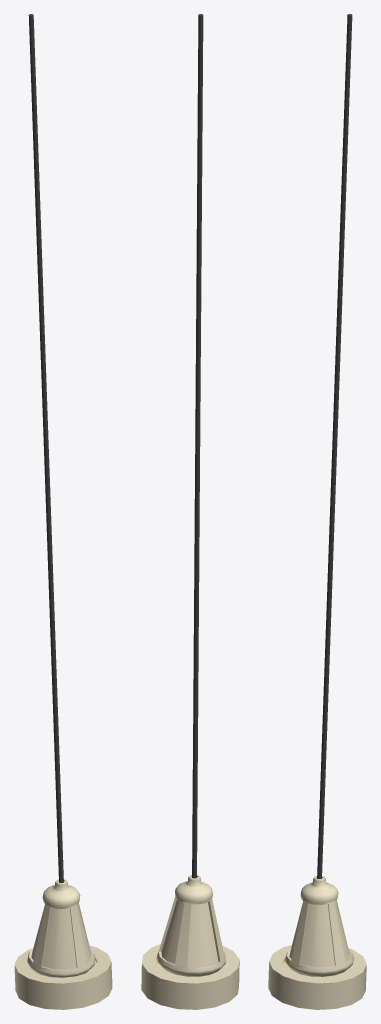
Rendered from AntennaCOEL.fbx.
3 renders of one model, left to right at view 1: azimuth 90°, elevation 25°; view 2: azimuth 210°, elevation 25°; view 3: azimuth 270°, elevation 25°, orthographic.
Visible parts, largest first — view 1: polySurface47.002; view 2: polySurface47.002; view 3: polySurface47.002.
Boxes of the visible parts, x1,y1,x2,y2 form: polySurface47.002: (14,14,112,1009); polySurface47.002: (141,14,239,1009); polySurface47.002: (268,14,366,1009).
Bounding box in the file's own units: 0.4081 × 0.4042 × 4.47.
